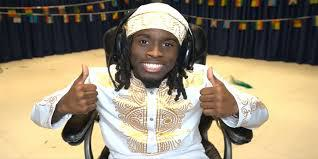kai-cenat: (130, 29, 180, 86)
